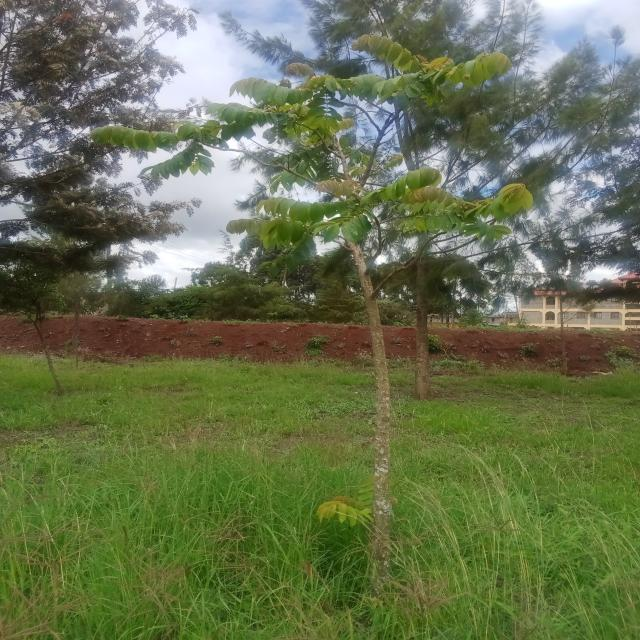Polyscias Kikuyensis: (110, 35, 620, 618)
